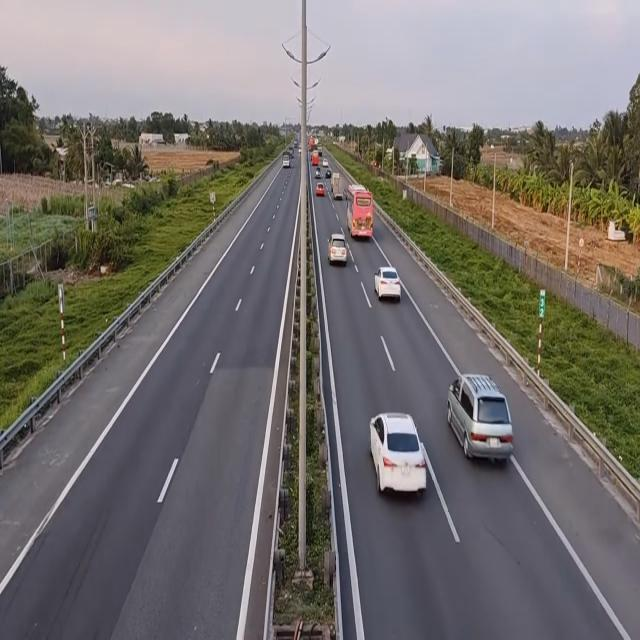bus: (346, 186, 374, 242)
car: (449, 372, 516, 465), (371, 412, 431, 500), (372, 265, 399, 304), (328, 231, 350, 265)
